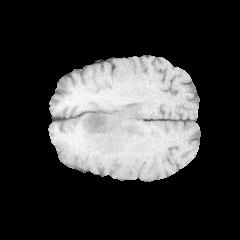glioma: (65, 102, 139, 155)
